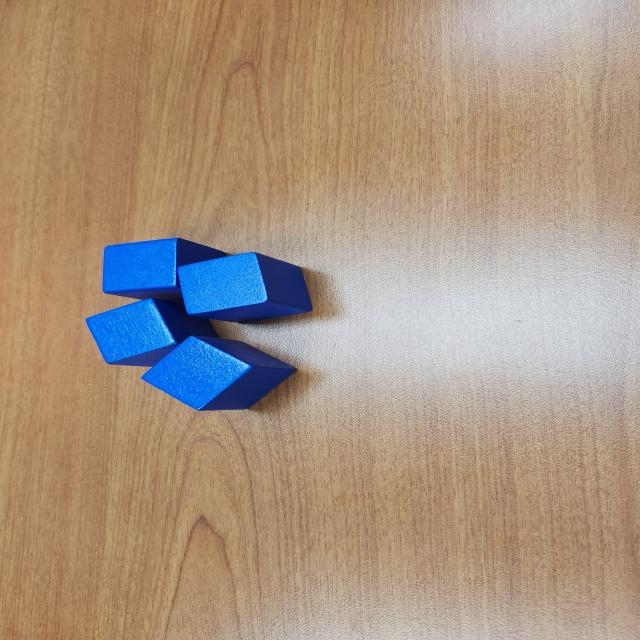blue: (140, 335, 298, 411), (176, 252, 313, 323), (85, 298, 220, 367), (103, 237, 227, 303)
